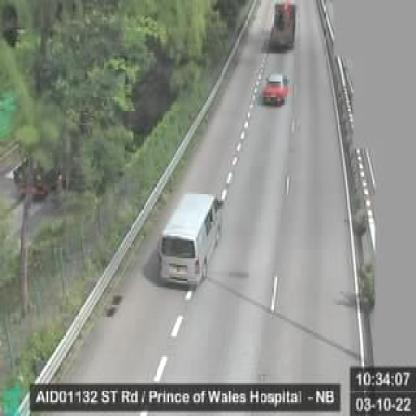Car: (156, 191, 221, 283), (263, 73, 287, 106)
Truck: (269, 0, 295, 47)
